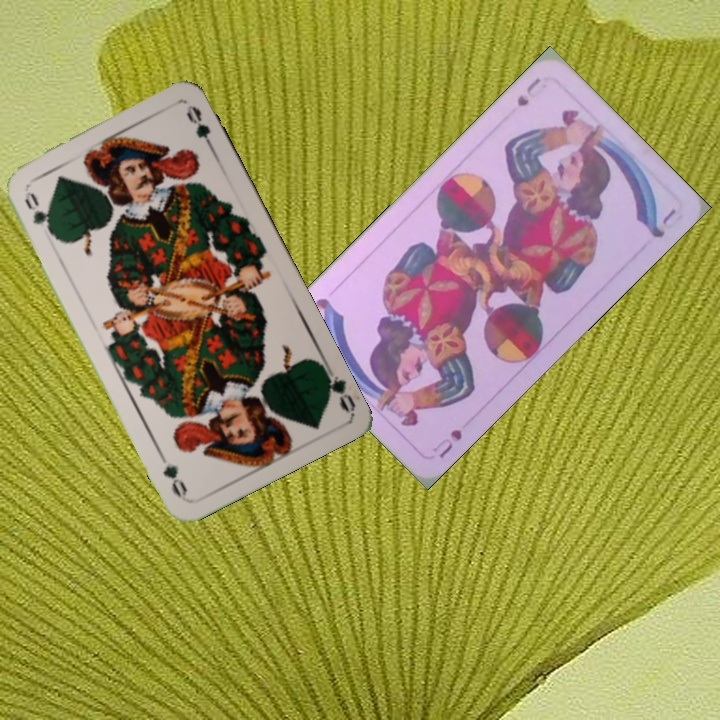GO: (315, 358, 359, 414), (20, 187, 58, 239)
SU: (428, 424, 465, 462), (510, 73, 544, 110)
